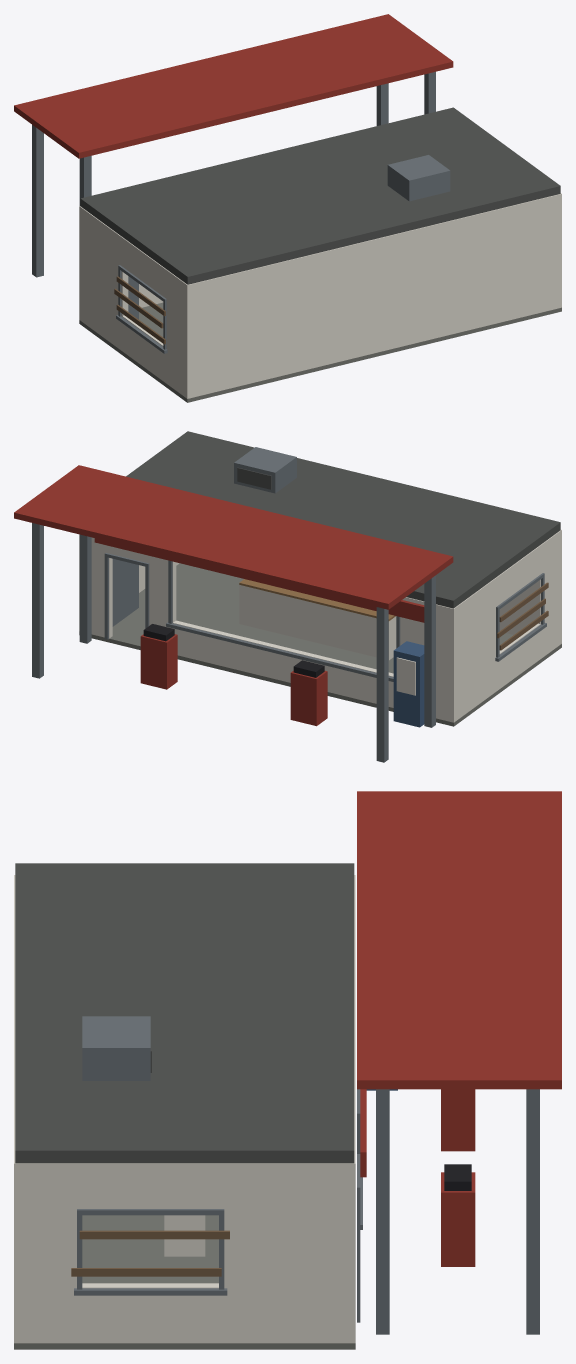
The model's file is gas_station.glb.
The picture shows the model from 3 angles, top to bottom: view 1: azimuth 30°, elevation 25°; view 2: azimuth 150°, elevation 25°; view 3: azimuth 270°, elevation 25°; orthographic projection. The views are drawn at different scales.
Visible parts, largest first — view 1: gas_station; view 2: gas_station; view 3: gas_station.
Part boxes in pixels (left/top/right/bottom): gas_station: left=14, top=14, right=561, bottom=402; gas_station: left=14, top=431, right=561, bottom=762; gas_station: left=14, top=791, right=561, bottom=1349.
Size of what is drawn, in the model's own units: 10.26 by 4.35 by 8.02.
Materials: 1 (1 with a texture image).
